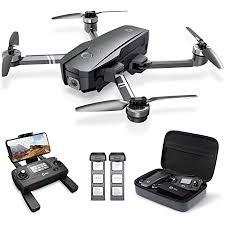drone: (0, 0, 225, 126)
